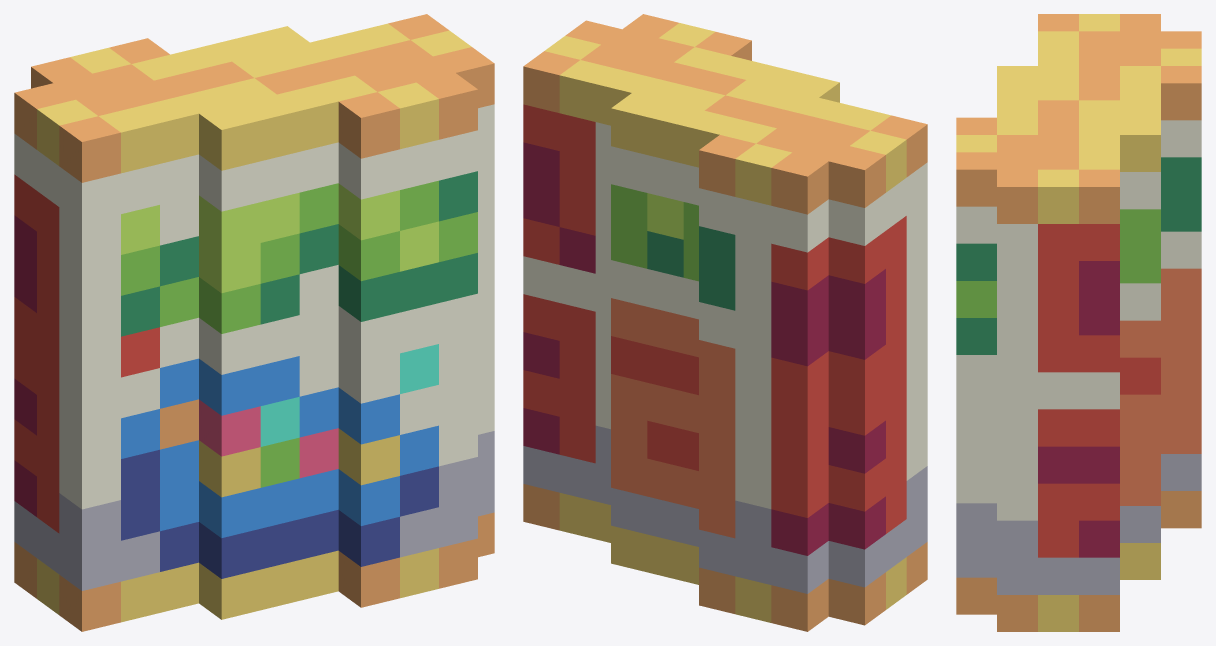
File: Cereal.obj
The picture shows the model from 3 angles, left to right: view 1: azimuth 30°, elevation 25°; view 2: azimuth 150°, elevation 25°; view 3: azimuth 270°, elevation 25°; orthographic projection. The views are drawn at different scales.
Bounding box in the file's own units: 1 × 1.2 × 0.6.
1 material, 1 textured.
